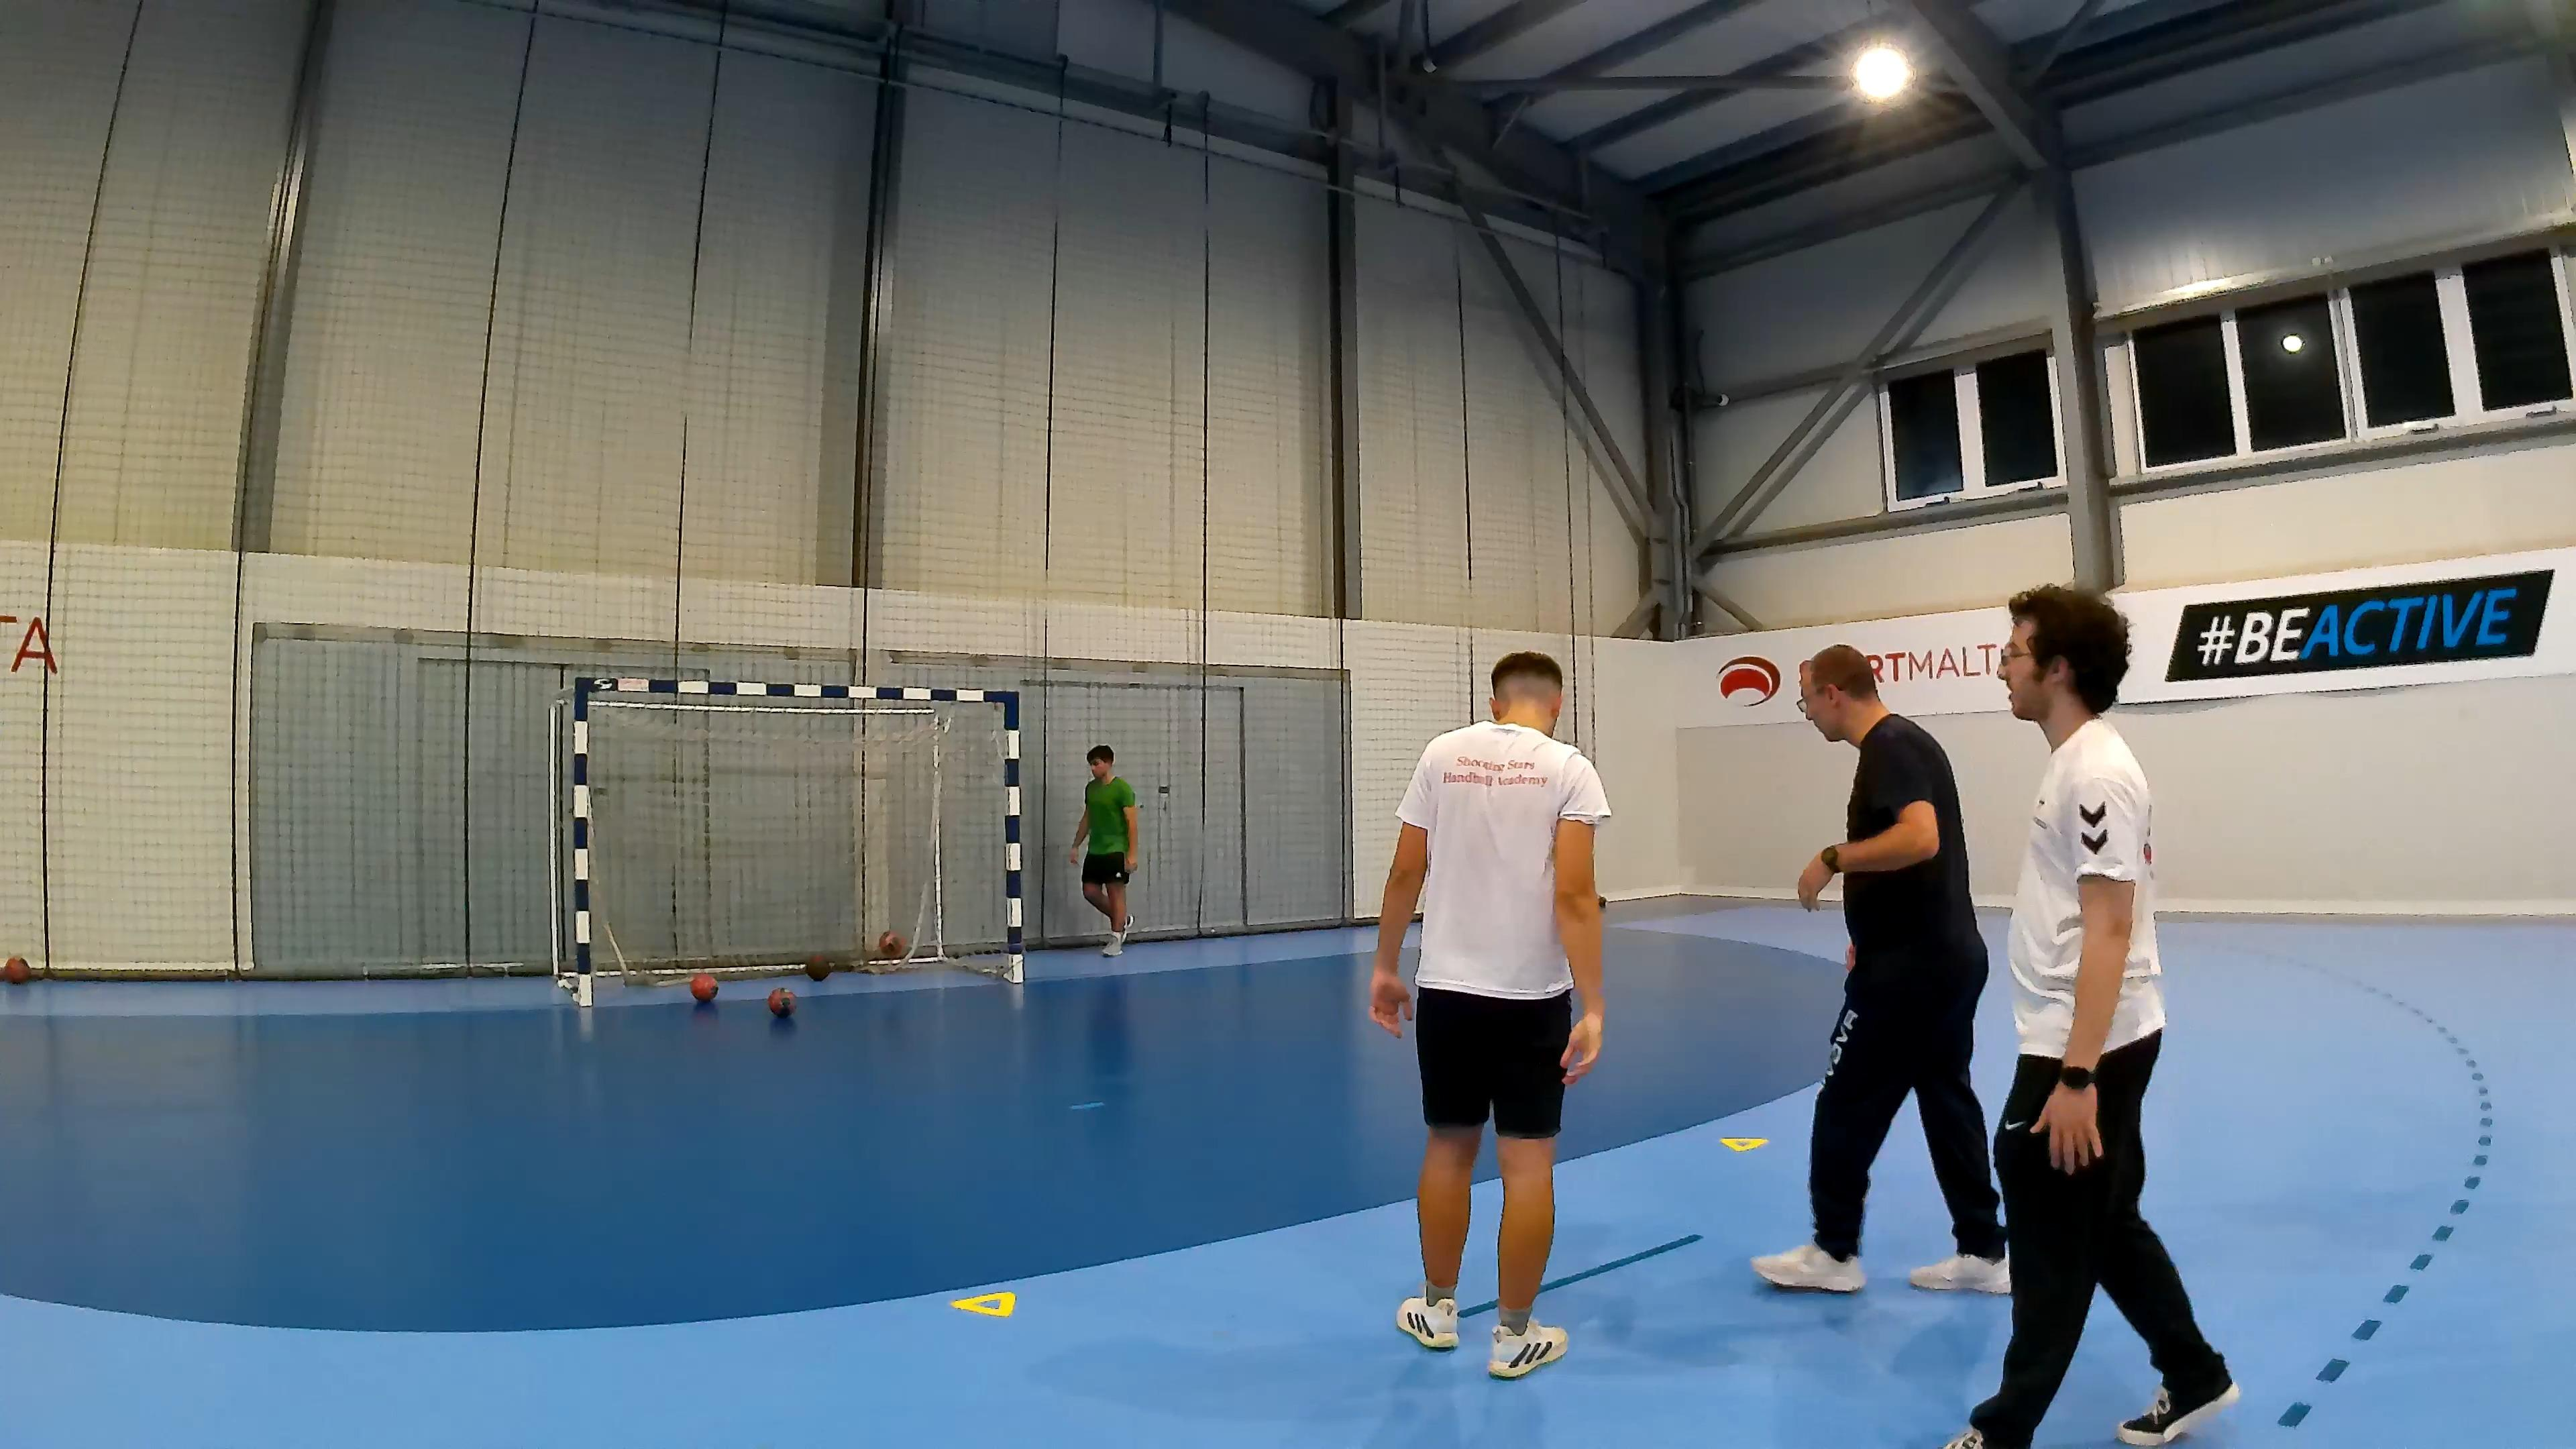handball: (766, 985, 794, 1016), (688, 971, 717, 1001), (878, 931, 906, 959), (803, 954, 832, 980)
